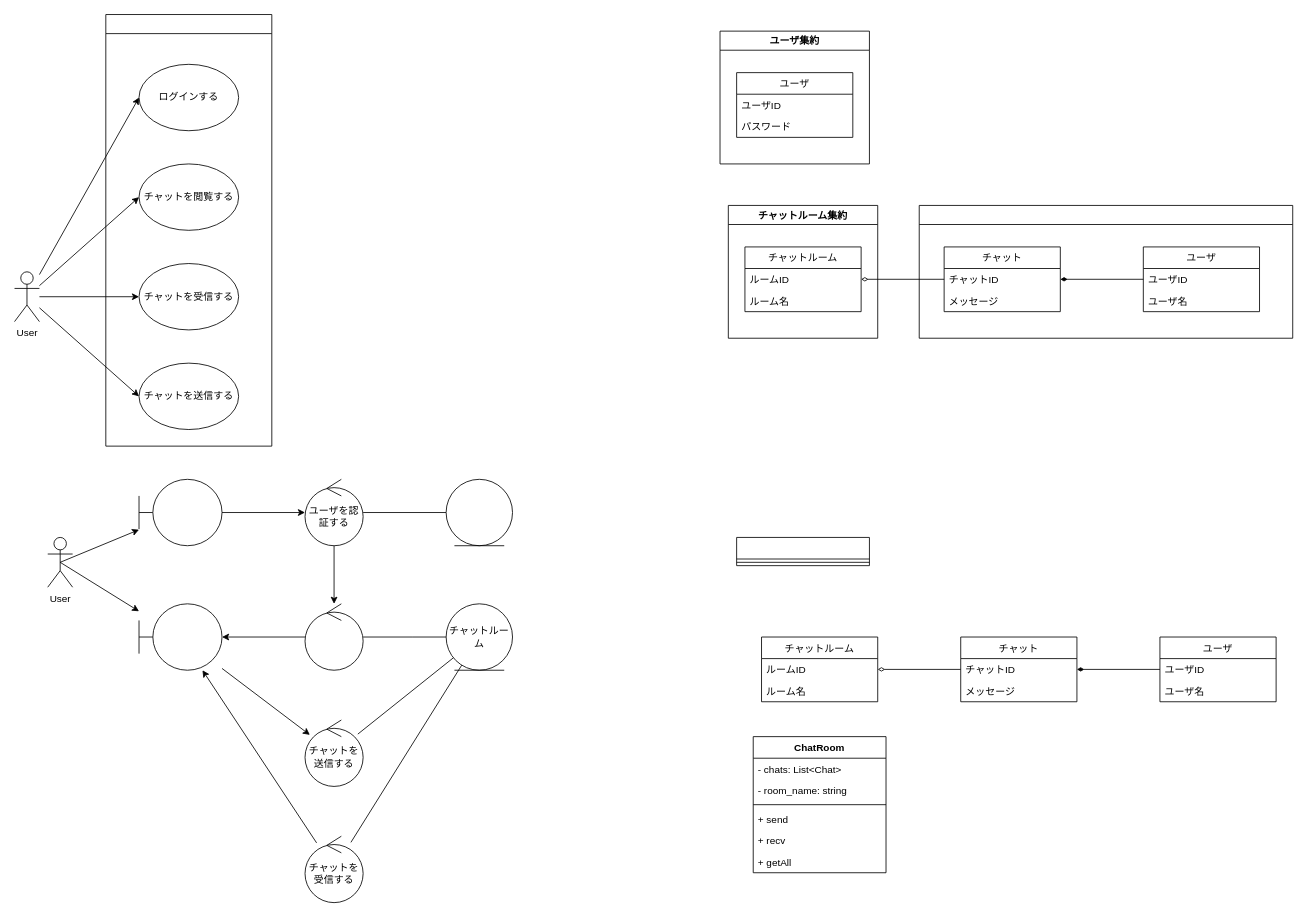
Some shapes in this 1307 by 917 pixel diagram are drawn without their labels. The centre of each missing label's shape, as x and y in pixels:
"ApplicationService" goes at pixel 802 551.
"SystemSystem" goes at pixel 188 230.
"チャット画面" goes at pixel 180 636.
"チャット集約" goes at pixel 1105 271.
"ユーザ情報" goes at pixel 479 512.
"ルーム内のチャットを取得する" goes at pixel 333 636.
"ログイン画面" goes at pixel 180 512.
